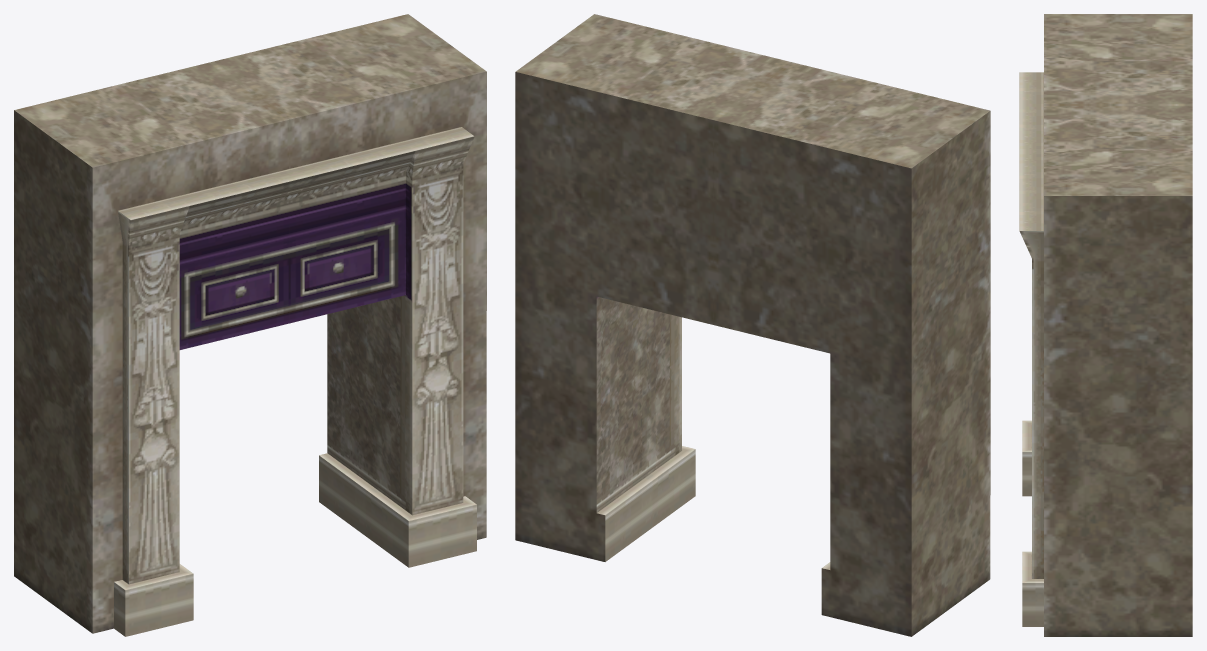
Rendered from furni_0201124_01.FBX.
3 views of the same model, side by side, from view 1: azimuth 30°, elevation 25°; view 2: azimuth 150°, elevation 25°; view 3: azimuth 270°, elevation 25° (orthographic). The views are drawn at different scales.
Parts seen in each view (by area): view 1: furni_0201124_01; view 2: furni_0201124_01; view 3: furni_0201124_01.
Boxes of the visible parts, box(x1,y1,x2,y2) form: furni_0201124_01: box(14, 14, 486, 636); furni_0201124_01: box(515, 14, 990, 636); furni_0201124_01: box(1019, 14, 1192, 636).
Bounding box in the file's own units: 160 × 181 × 64.4.
1 material, 1 textured.
